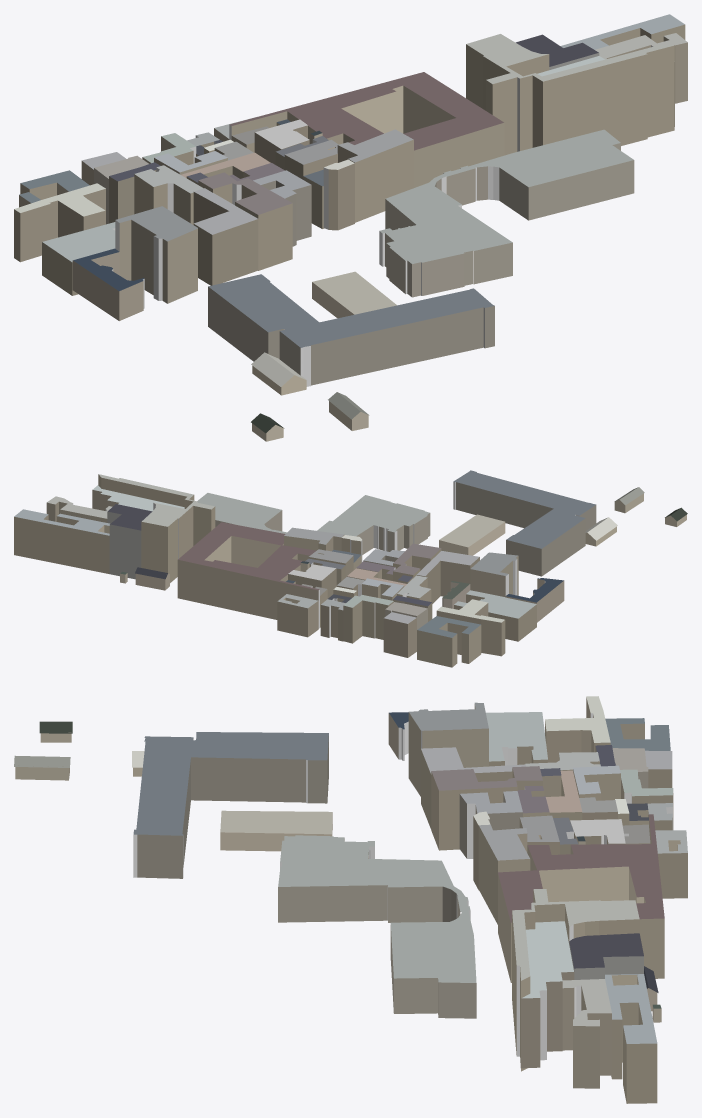
3 views of the same model, one above another, from view 1: azimuth 30°, elevation 25°; view 2: azimuth 150°, elevation 25°; view 3: azimuth 270°, elevation 25° (orthographic). The views are drawn at different scales.
Visible parts, largest first — view 1: tuile; view 2: tuile; view 3: tuile.
Boxes of the visible parts, x1,y1,x2,y2 form: tuile: [14, 14, 687, 441]; tuile: [14, 470, 687, 667]; tuile: [14, 696, 687, 1103].
Bounding box in the file's own units: 269 × 32.99 × 212.
